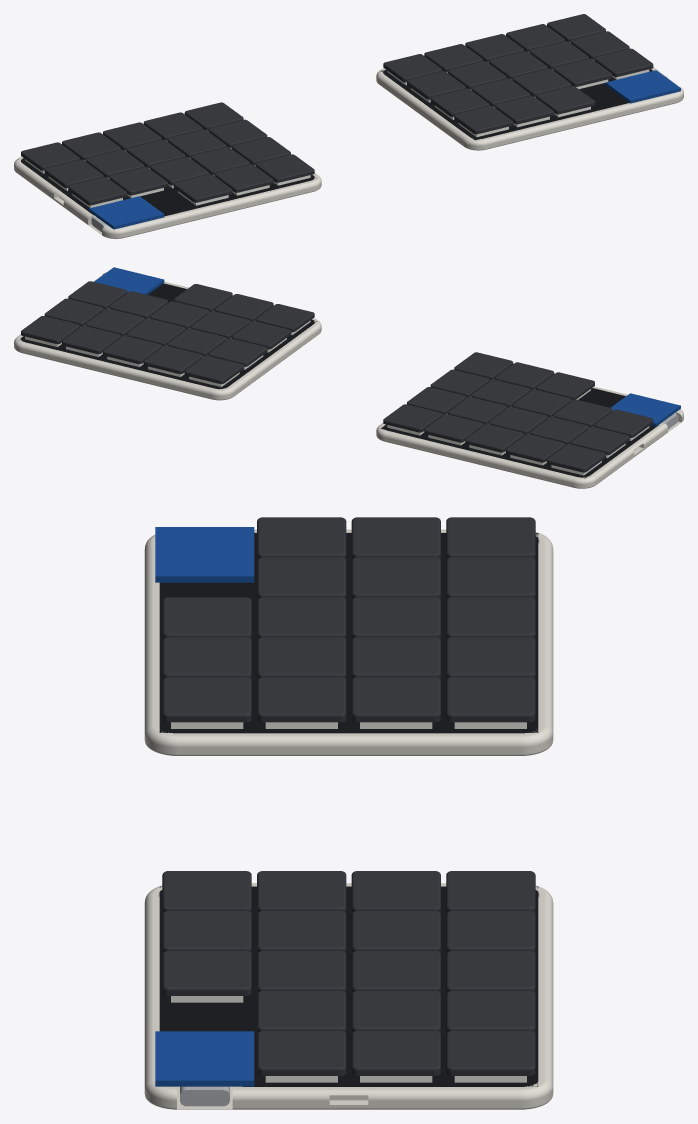
File: keyboard.glb
3 renders of one model, top to bottom at view 1: azimuth 30°, elevation 25°; view 2: azimuth 150°, elevation 25°; view 3: azimuth 270°, elevation 25°, orthographic. The views are drawn at different scales.
Visible parts, largest first — view 1: tray (×2), pcb (×2), xiao_pcb (×2), cap_2_3 (×2), cap_4_3 (×2), cap_0_2 (×2), cap_3_3 (×2), cap_1_2 (×2), cap_0_1 (×2), cap_4_0 (×2), cap_4_1 (×2), cap_4_2 (×2) (+9 smaller); view 2: tray (×2), pcb (×2), xiao_pcb (×2), cap_4_0 (×2), cap_0_0 (×2), cap_3_0 (×2), cap_2_0 (×2), cap_1_0 (×2), cap_4_3 (×2), cap_0_2 (×2), cap_0_1 (×2), cap_4_1 (×2) (+9 smaller); view 3: tray (×2), pcb (×2), xiao_pcb (×2), cap_0_0 (×2), cap_0_1 (×2), cap_0_2 (×2), cap_4_1 (×2), cap_4_2 (×2), cap_2_3 (×2), cap_4_0 (×2), cap_4_3 (×2), cap_1_0 (×2) (+10 smaller).
Part boxes in pixels (x1,y1,x2,y2): tray (×2): (14, 67, 683, 238); pcb (×2): (18, 69, 652, 216); xiao_pcb (×2): (89, 70, 680, 229); cap_2_3 (×2): (173, 86, 594, 202); cap_4_3 (×2): (255, 106, 513, 182); cap_0_2 (×2): (68, 48, 653, 205); cap_3_3 (×2): (214, 96, 554, 192); cap_1_2 (×2): (109, 58, 612, 195); cap_0_1 (×2): (44, 31, 629, 187); cap_4_0 (×2): (184, 54, 442, 130); cap_4_1 (×2): (208, 71, 465, 147); cap_4_2 (×2): (232, 88, 489, 165); tray (×2): (14, 272, 683, 488); pcb (×2): (18, 283, 676, 478); xiao_pcb (×2): (94, 267, 680, 426); cap_4_0 (×2): (184, 355, 442, 432); cap_0_0 (×2): (21, 316, 605, 472); cap_3_0 (×2): (143, 345, 483, 442); cap_2_0 (×2): (103, 335, 524, 452); cap_1_0 (×2): (62, 326, 565, 462); cap_4_3 (×2): (255, 304, 513, 380); cap_0_2 (×2): (68, 281, 653, 437); cap_0_1 (×2): (44, 298, 629, 455); cap_4_1 (×2): (208, 338, 465, 415); tray (×2): (144, 529, 553, 1109); pcb (×2): (159, 533, 538, 1086); xiao_pcb (×2): (155, 527, 254, 1086); cap_0_0 (×2): (446, 517, 535, 1075); cap_0_1 (×2): (351, 517, 440, 1075); cap_0_2 (×2): (257, 517, 346, 1075); cap_4_1 (×2): (351, 677, 440, 913); cap_4_2 (×2): (257, 677, 346, 913); cap_2_3 (×2): (162, 597, 251, 995); cap_4_0 (×2): (446, 677, 535, 913); cap_4_3 (×2): (162, 677, 251, 913); cap_1_0 (×2): (446, 557, 535, 1033).
Bounding box in the file's own units: 0.2408 × 0.007 × 0.0734.
